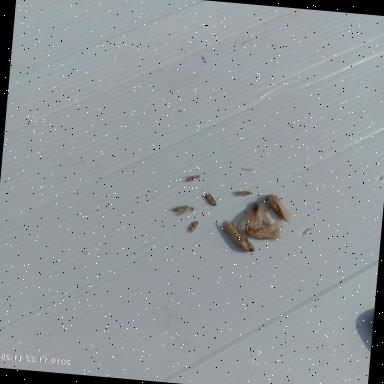abw: (216, 218, 258, 255), (262, 190, 296, 224), (240, 198, 273, 232), (246, 216, 285, 242)
pbw: (168, 203, 194, 217), (202, 191, 220, 207), (185, 218, 200, 234), (182, 173, 200, 184), (233, 189, 252, 198)
